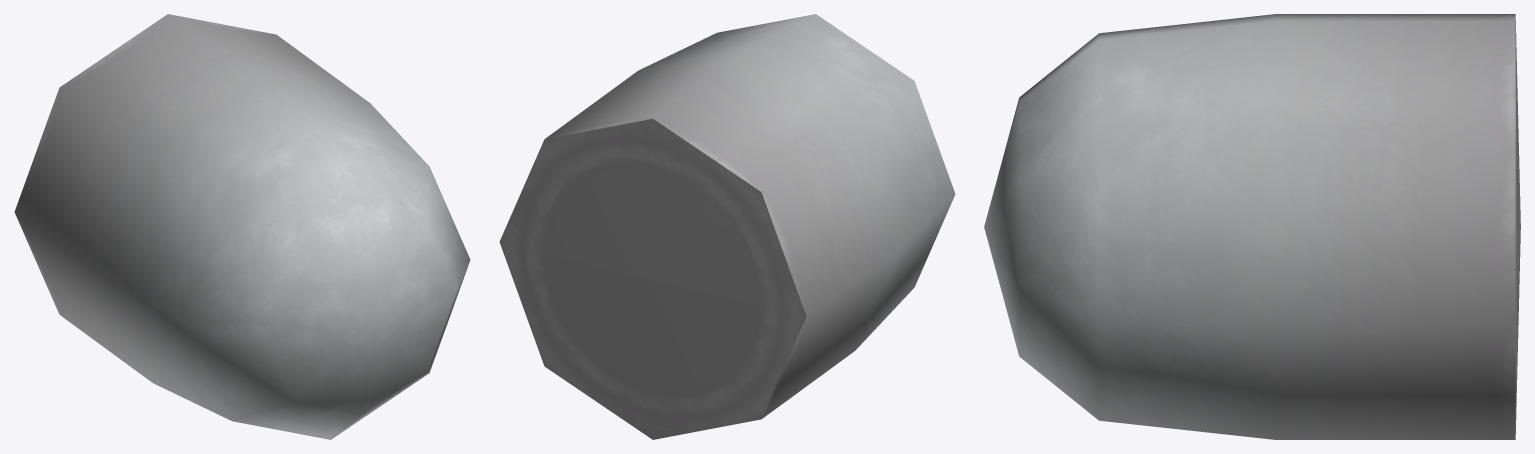
Rendered from Bullet.gltf.
3 renders of one model, left to right at view 1: azimuth 30°, elevation 25°; view 2: azimuth 150°, elevation 25°; view 3: azimuth 270°, elevation 25°, orthographic. The views are drawn at different scales.
Parts seen in each view (by area): view 1: Bullet_low; view 2: Bullet_low; view 3: Bullet_low.
Part boxes in pixels (<box>): Bullet_low: <box>14,14,470,439</box>; Bullet_low: <box>499,14,955,439</box>; Bullet_low: <box>984,14,1520,439</box>.
Size of the model in its own units: 0.0897 by 0.0897 by 0.1063.
1 material, 1 textured.
